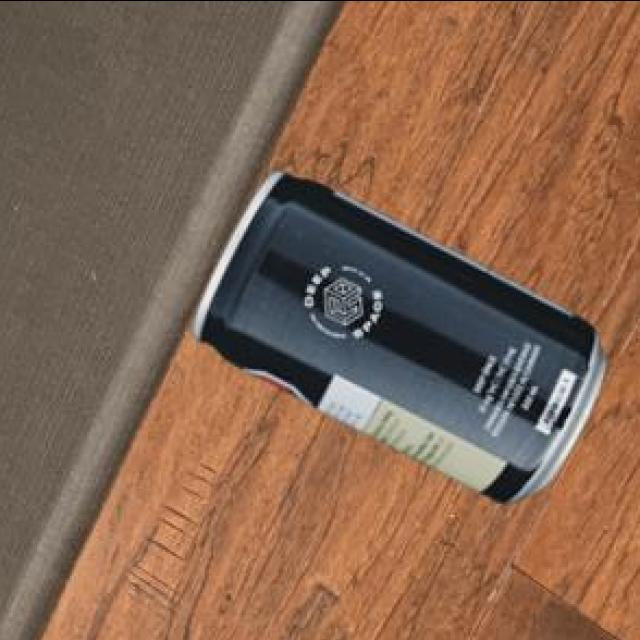logam: (190, 173, 602, 506)
